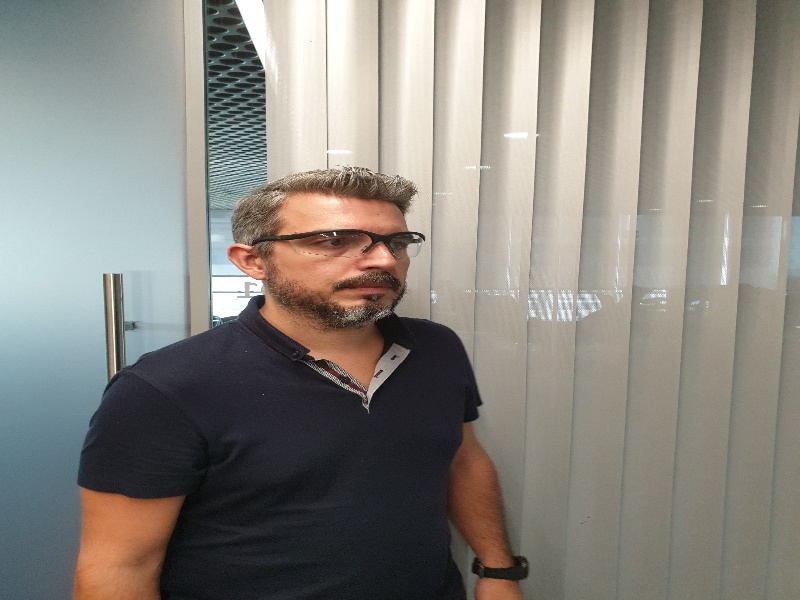Gozluk: (245, 229, 424, 258)
